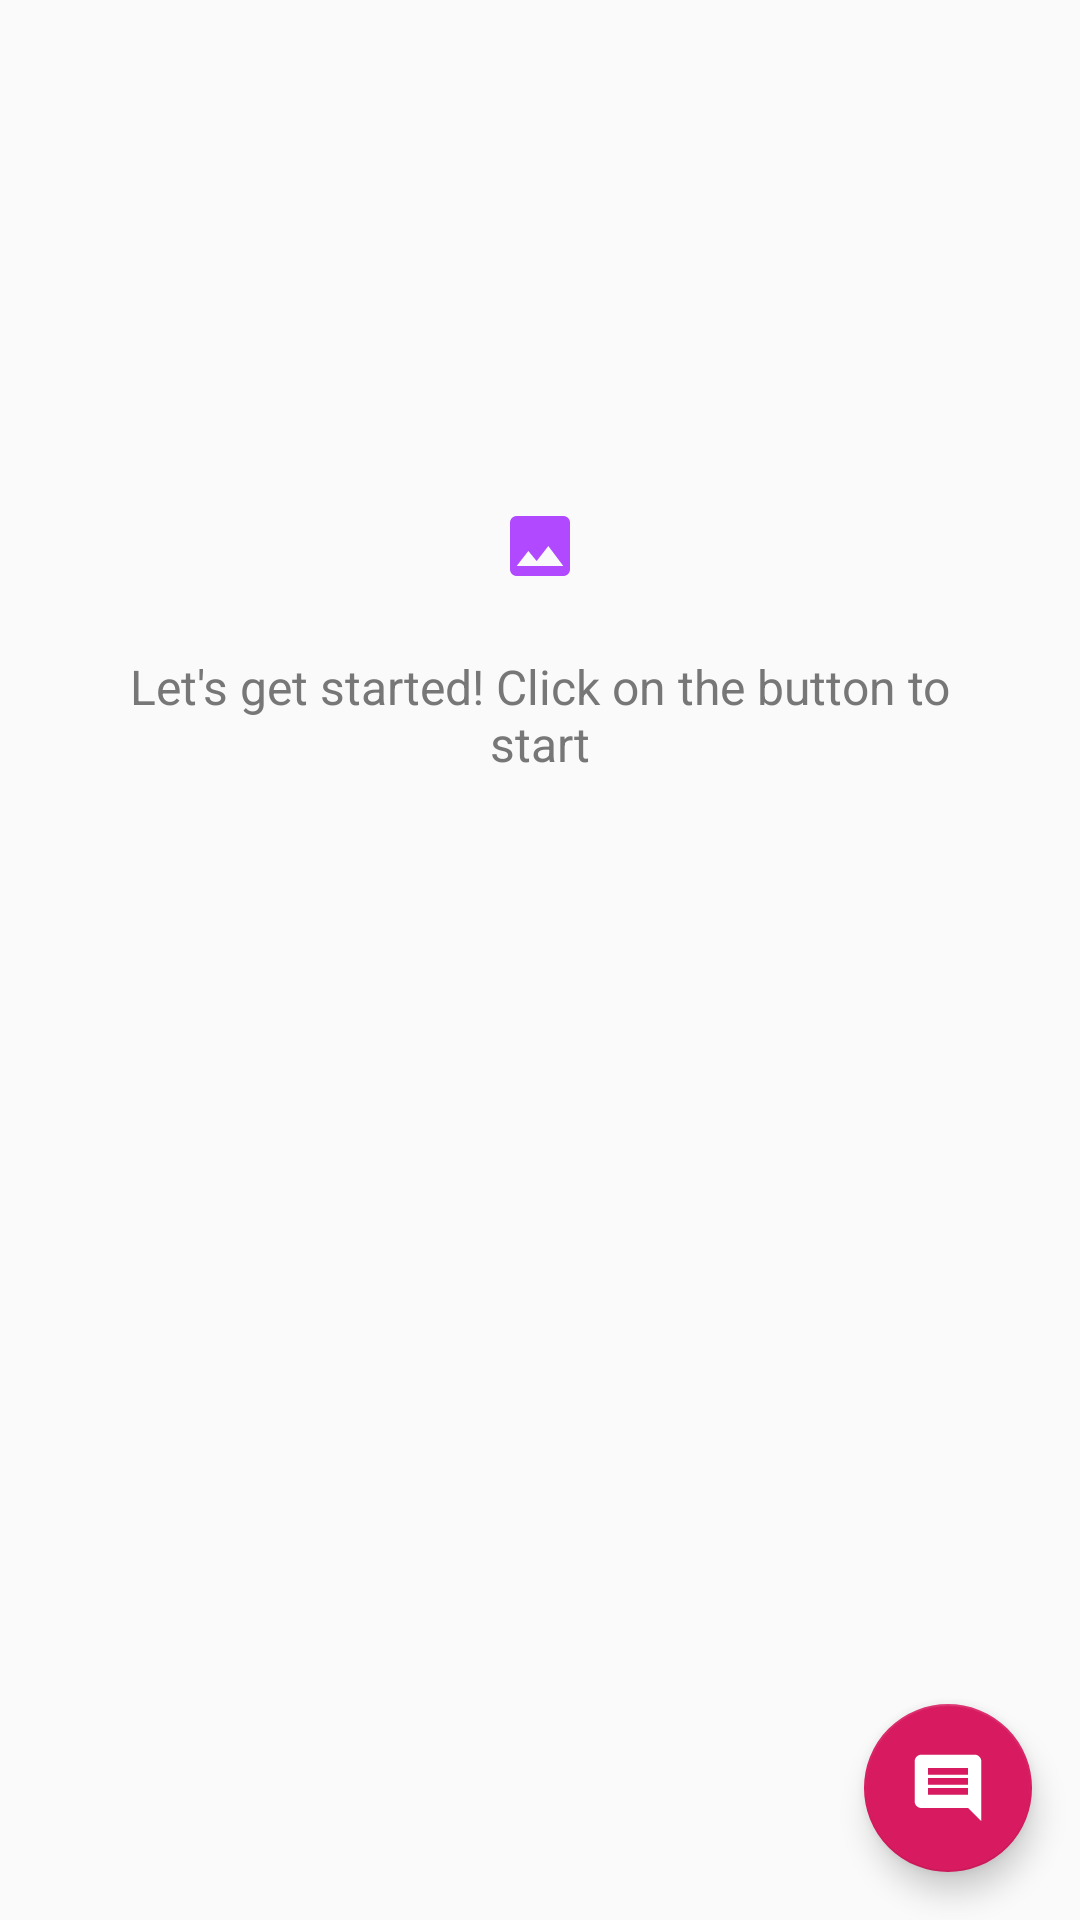

Where icons sit on this 1080*1920 app screen, as (x1, y1, x2, y2):
message: (864, 1704, 1032, 1872)
